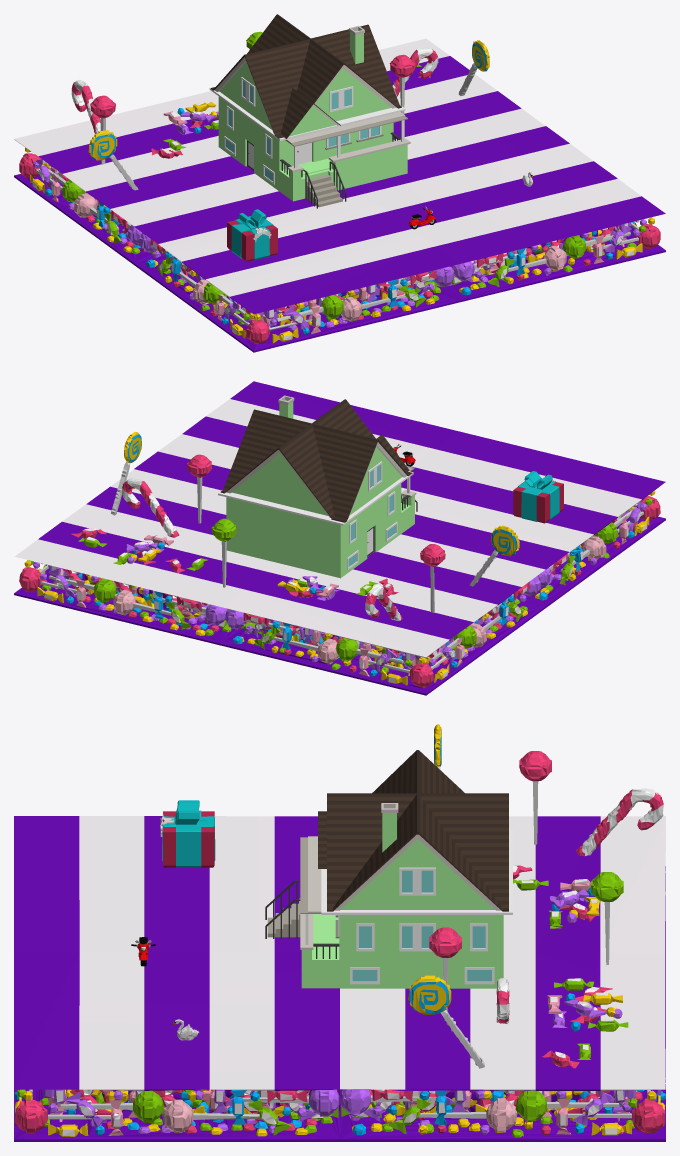
3 views of the same model, one above another, from view 1: azimuth 30°, elevation 25°; view 2: azimuth 150°, elevation 25°; view 3: azimuth 270°, elevation 25° (orthographic). The views are drawn at different scales.
Visible parts, largest first — view 1: TERRAIN_CANDY, Cube.274, OBJRANDOM_GIANT_PRESENT; view 2: TERRAIN_CANDY, Cube.274, OBJRANDOM_GIANT_PRESENT; view 3: TERRAIN_CANDY, Cube.274, OBJRANDOM_GIANT_PRESENT.
Part boxes in pixels (x1,y1,x2,y2): TERRAIN_CANDY: (14, 31, 665, 352); Cube.274: (209, 14, 410, 208); OBJRANDOM_GIANT_PRESENT: (227, 209, 277, 261); TERRAIN_CANDY: (14, 381, 665, 695); Cube.274: (218, 395, 417, 578); OBJRANDOM_GIANT_PRESENT: (513, 471, 563, 523); TERRAIN_CANDY: (14, 724, 665, 1141); Cube.274: (265, 750, 512, 988); OBJRANDOM_GIANT_PRESENT: (160, 800, 215, 867).
Bounding box in the file's own units: 4059 × 1584 × 4000.
32 materials, 2 textured.
